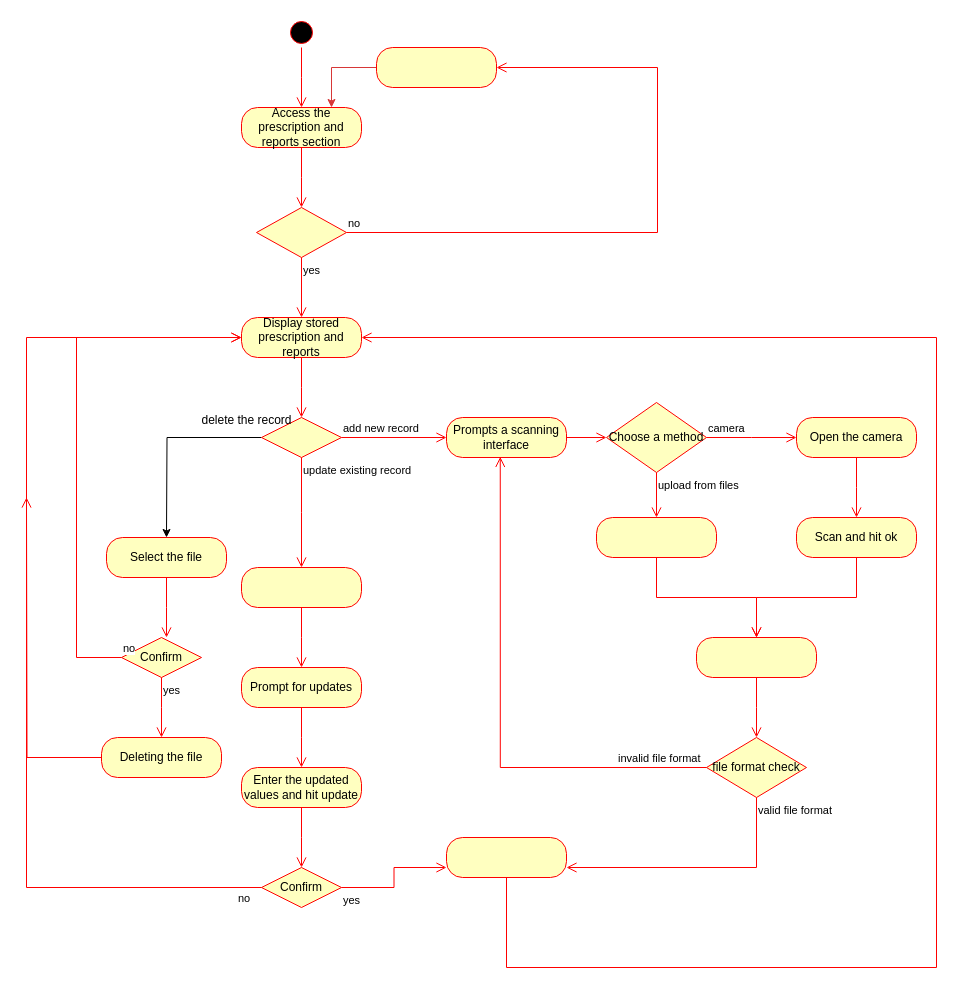
This 964x995 diagram has some shape labels left out. The shapes that lost their labels are listed below. From the top down, each one's centre as x and y in pixels, then its label:
At [436,67]: "Login".
At [301,232]: "Authenticated".
At [301,437]: "Action".
At [656,537]: "Choose a file from the file system".
At [301,587]: "Select or search the record".
At [756,657]: "Validate".
At [506,857]: "Upload and send a confirmation".
